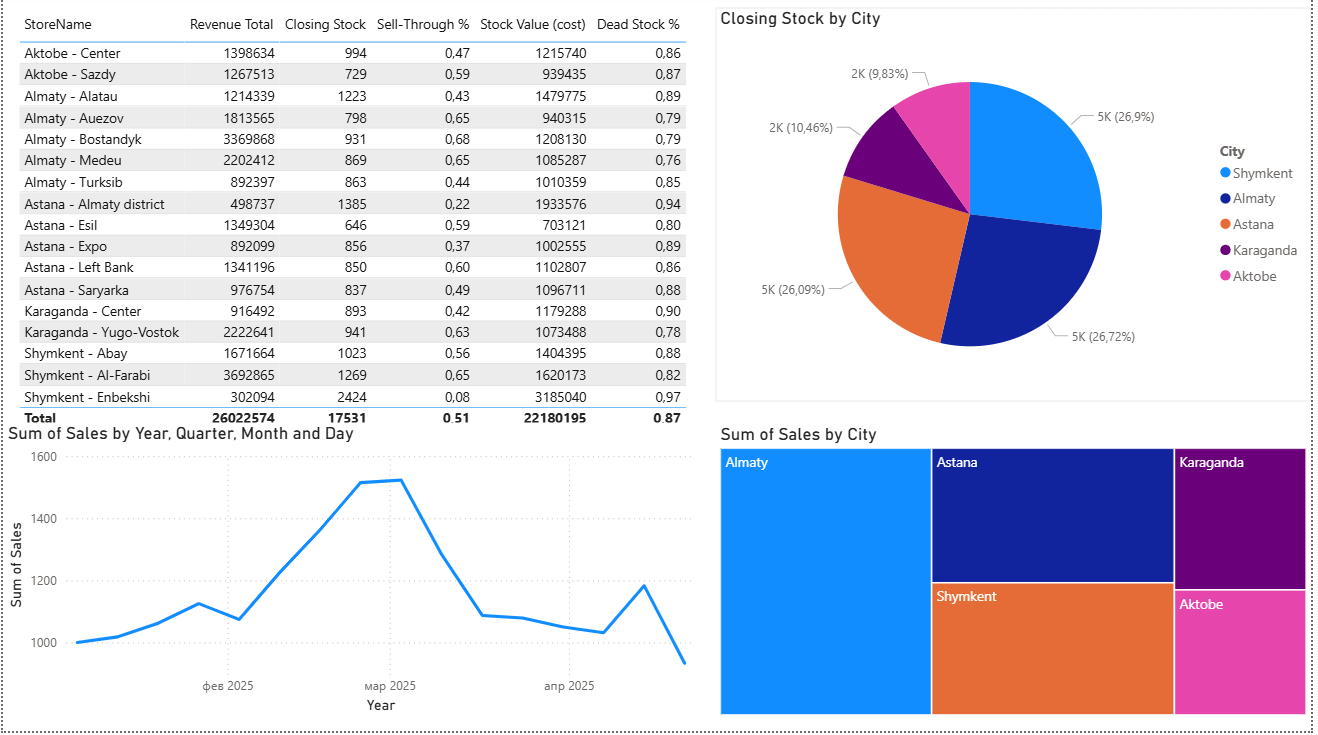

Layout of this report page (visuals, bound fields, positions):
{"tool":"powerbi","page":{"name":"Page 2","canvas":[1280,720],"ordinal":2},"visuals":[{"type":"tableEx","fields":{"Values":["DIM_Stores.StoreName","Fact.Revenue Total","Fact.Closing Stock","Fact.Sell-Through %","Fact.Stock Value (cost)","Fact.Dead Stock %"]},"box":[9.6,12.3,687.5,454.2],"z":0},{"type":"pieChart","fields":{"Category":["DIM_Stores.City"],"Y":["Fact.Closing Stock"]},"box":[697.1,12.3,583.2,385.6],"z":1},{"type":"lineChart","fields":{"Y":["Sum(Fact.Sales)"],"Category":["Dim_Week.Week.Variation.Date Hierarchy.Year","Dim_Week.Week.Variation.Date Hierarchy.Quarter","Dim_Week.Week.Variation.Date Hierarchy.Month","Dim_Week.Week.Variation.Date Hierarchy.Day"]},"box":[0,418.5,697.1,289.5],"z":2},{"type":"treemap","fields":{"Group":["Fact.City"],"Values":["Sum(Fact.Sales)"]},"box":[697,419,583,290],"z":3}]}

Visuals, with their boxes in screenshot pixels (x1, y1, x2, y2), scaled from the page's 1280x720 canvas onto the 1318x735 screenshot:
tableEx - DIM_Stores.StoreName x Fact.Revenue Total: (x1=10, y1=13, x2=718, y2=476)
pieChart - DIM_Stores.City x Fact.Closing Stock: (x1=718, y1=13, x2=1317, y2=406)
lineChart - Sum(Fact.Sales) x Dim_Week.Week.Variation.Date Hierarchy.Year: (x1=0, y1=427, x2=718, y2=723)
treemap - Fact.City x Sum(Fact.Sales): (x1=718, y1=428, x2=1317, y2=724)
